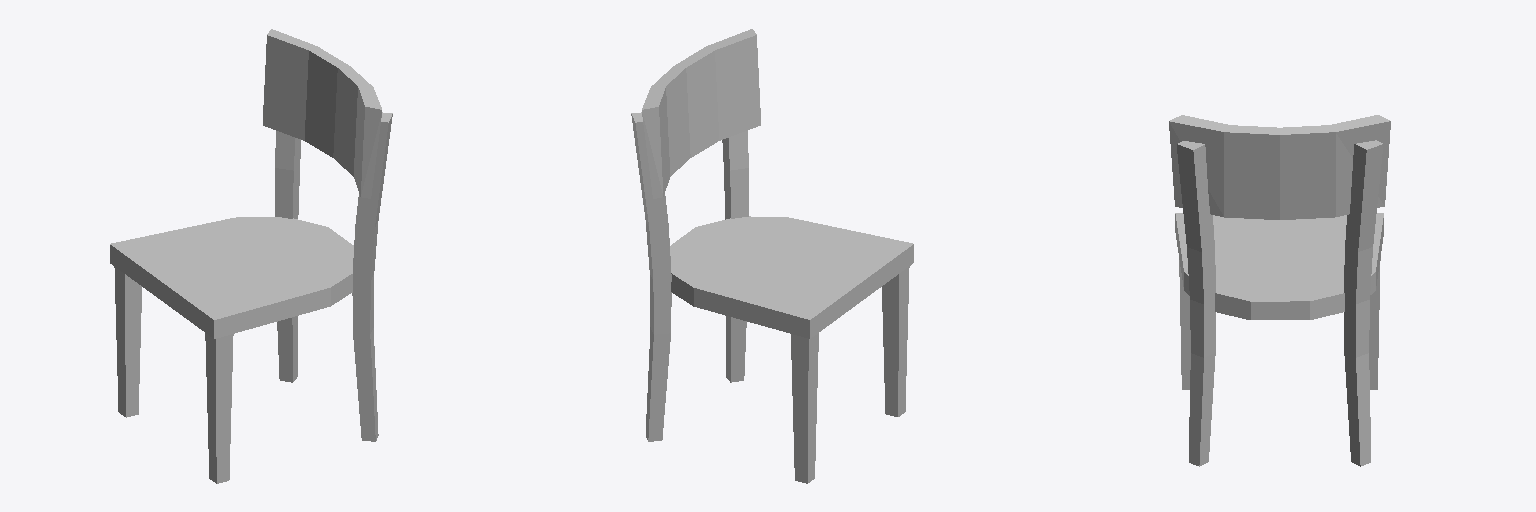
File: chair_001.obj
3 renders of one model, left to right at view 1: azimuth 30°, elevation 25°; view 2: azimuth 150°, elevation 25°; view 3: azimuth 270°, elevation 25°, orthographic.
Visible parts, largest first — view 1: Props_Chair; view 2: Props_Chair; view 3: Props_Chair.
Boxes of the visible parts, x1,y1,x2,y2 form: Props_Chair: [110, 29, 392, 483]; Props_Chair: [631, 29, 913, 483]; Props_Chair: [1169, 115, 1390, 466].
Bounding box in the file's own units: 0.672 × 1.16 × 0.6863.